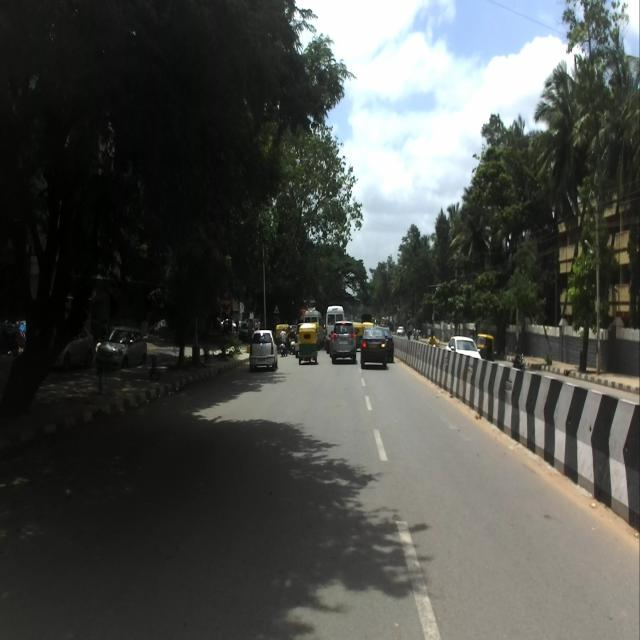car: (249, 328, 278, 371), (330, 322, 356, 363)
